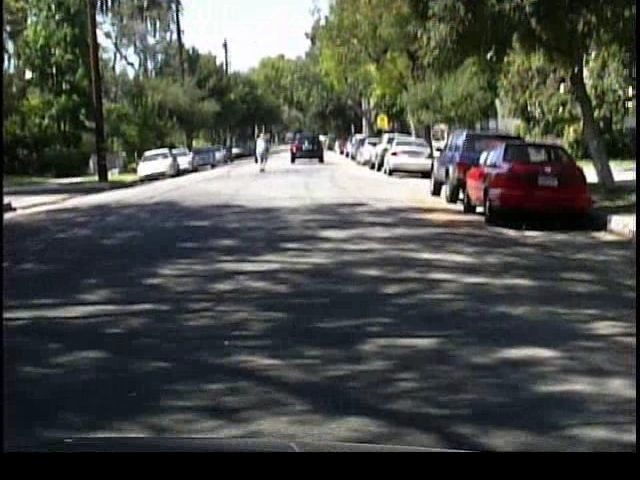person: (251, 145, 276, 192)
